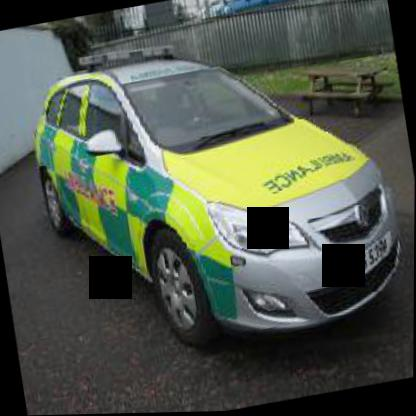emergency: (15, 0, 415, 380)
